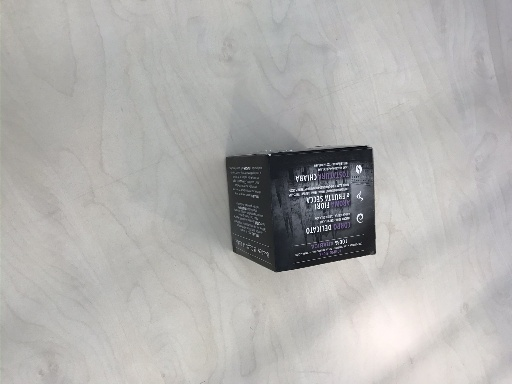Caffe: (225, 144, 379, 274)
